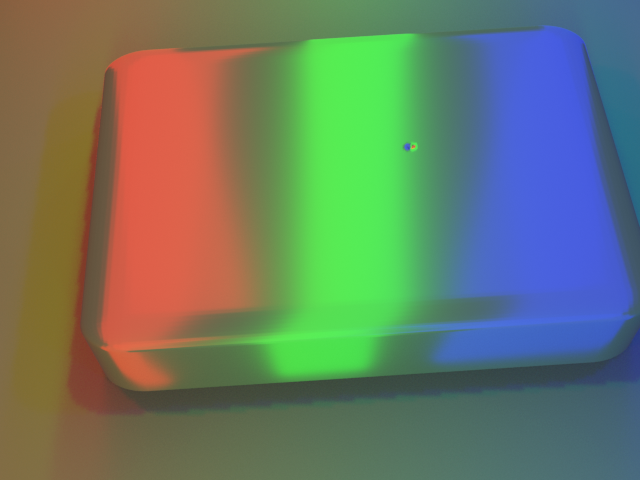dent: (402, 122, 436, 153)
